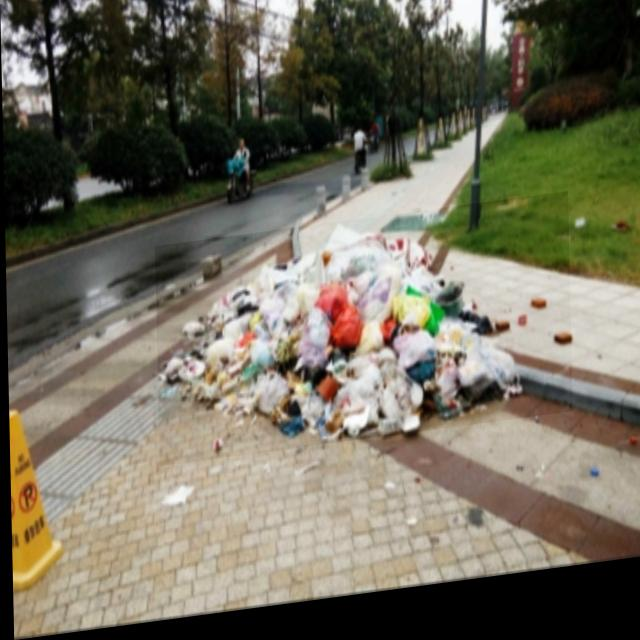garbage: (154, 207, 570, 470)
